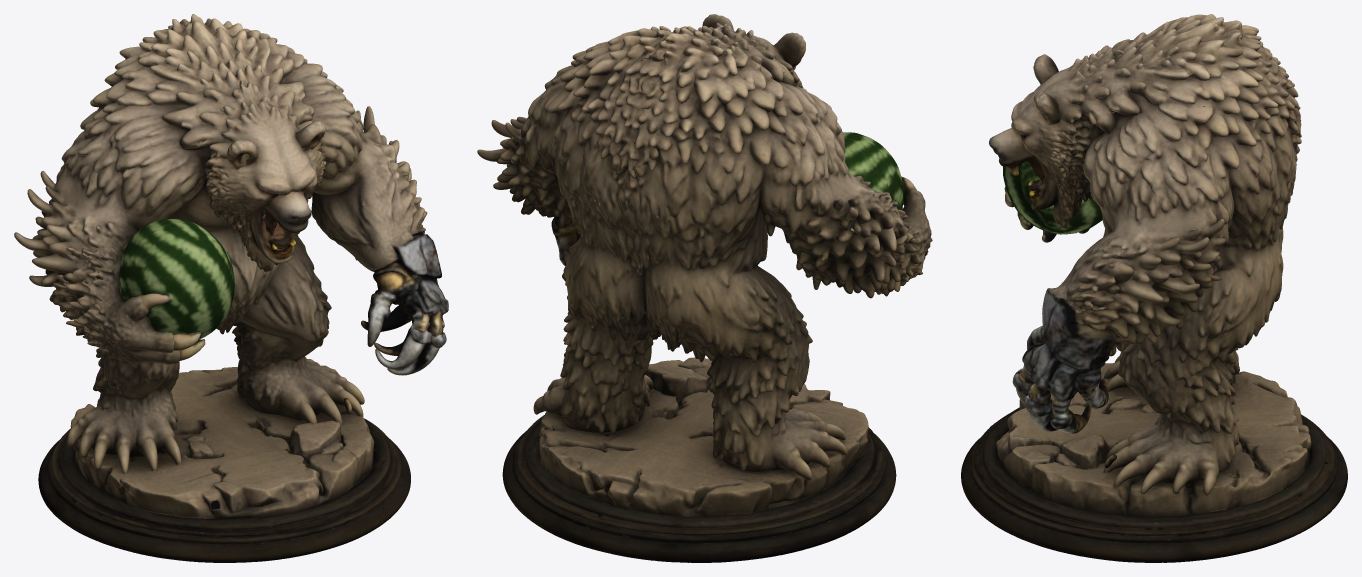
File: generation_werebear_2.glb
3 renders of one model, left to right at view 1: azimuth 30°, elevation 25°; view 2: azimuth 150°, elevation 25°; view 3: azimuth 270°, elevation 25°, orthographic. The views are drawn at different scales.
Visible parts, largest first — view 1: geometry_0; view 2: geometry_0; view 3: geometry_0.
Boxes of the visible parts, x1,y1,x2,y2 form: geometry_0: (14,14,448,562); geometry_0: (477,14,932,562); geometry_0: (961,14,1347,562).
Bounding box in the file's own units: 0.8925 × 1 × 0.7614.
1 material, 1 textured.
